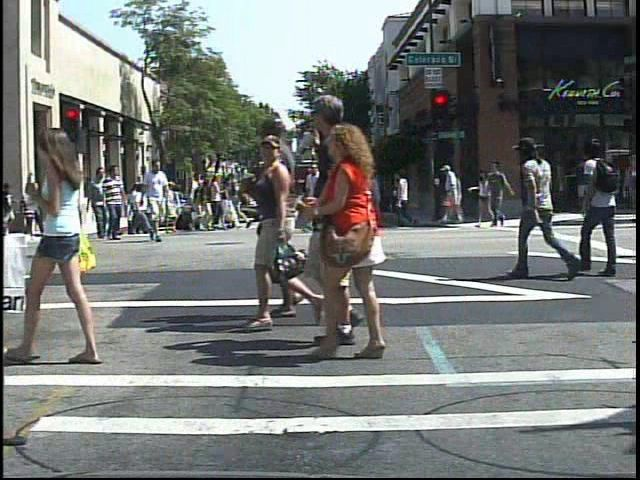person: (280, 90, 404, 346), (16, 118, 117, 372), (310, 117, 409, 358), (514, 126, 577, 286), (573, 129, 634, 283), (139, 160, 173, 243), (41, 166, 70, 245), (101, 161, 129, 239), (442, 162, 466, 225), (91, 182, 111, 221), (28, 182, 36, 243)
